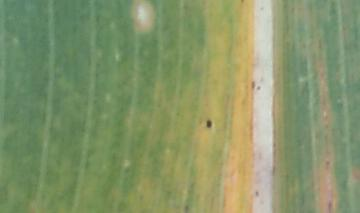tarspot: (204, 118, 214, 129), (323, 158, 332, 168), (326, 198, 332, 213), (249, 78, 256, 90), (257, 4, 265, 12), (253, 189, 260, 198), (255, 84, 262, 92), (239, 1, 244, 5)
